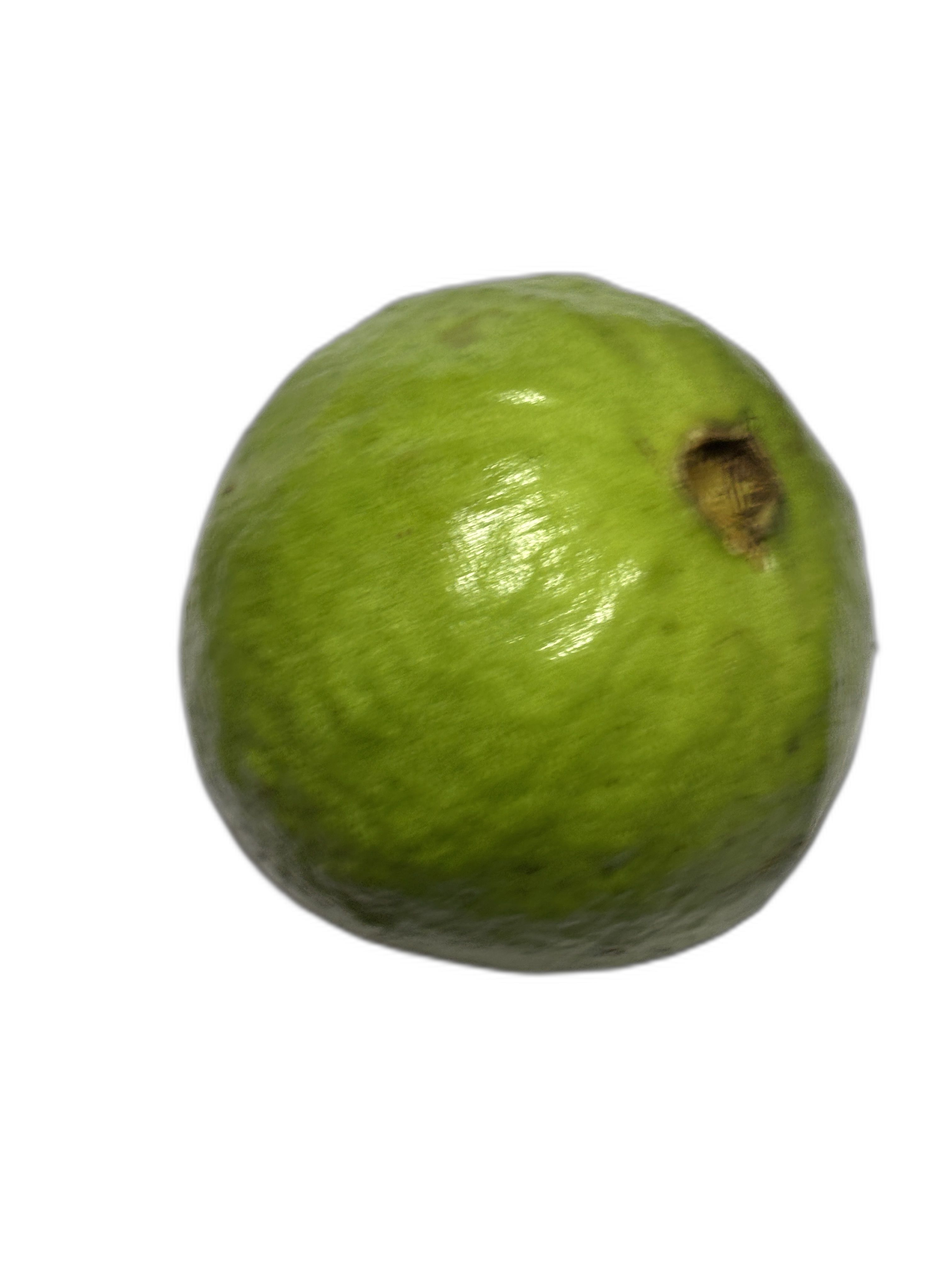guava: (97, 150, 853, 1208)
